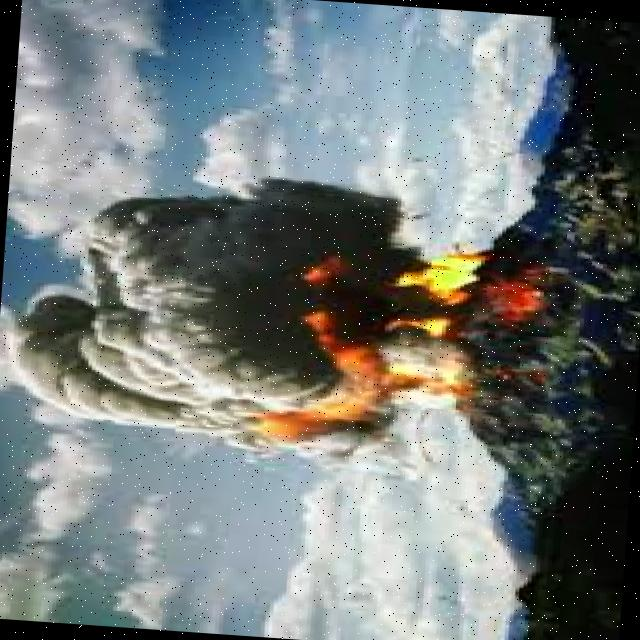explosion: (124, 202, 590, 479)
